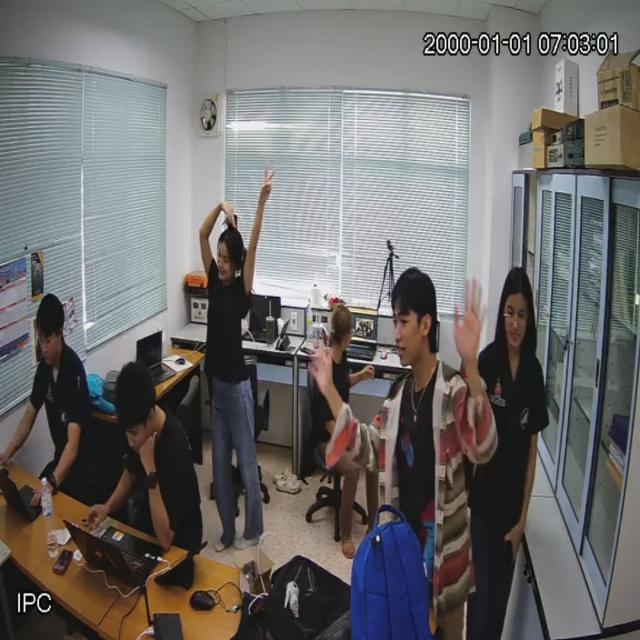normal: (364, 266, 460, 640), (474, 268, 543, 640), (90, 366, 199, 554), (4, 294, 94, 506), (204, 215, 261, 545)
